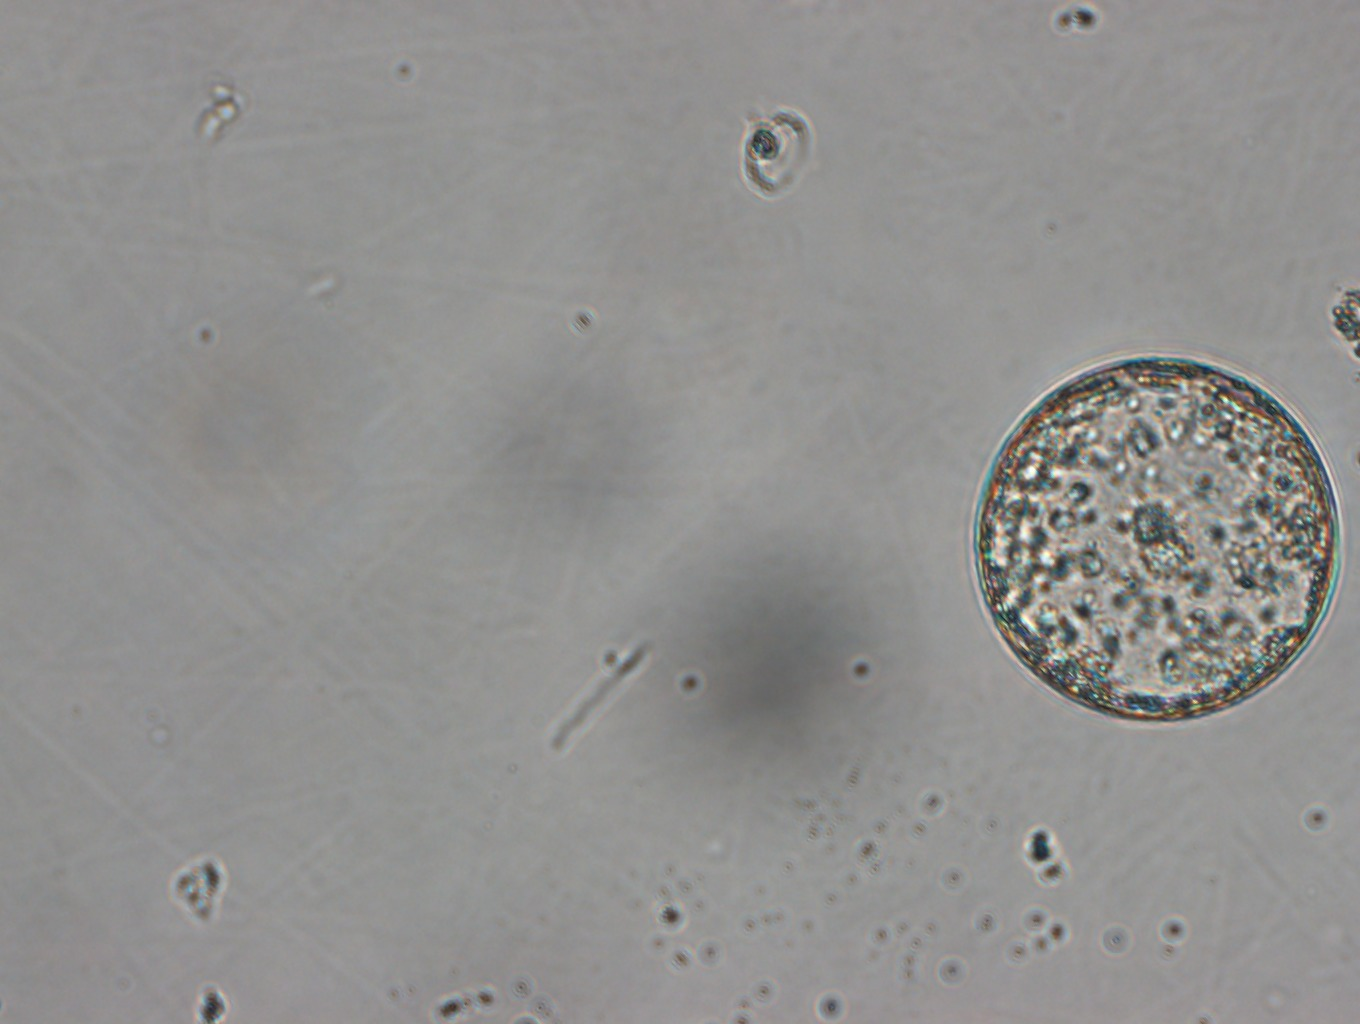coscinodiscus: (969, 353, 1345, 726)
